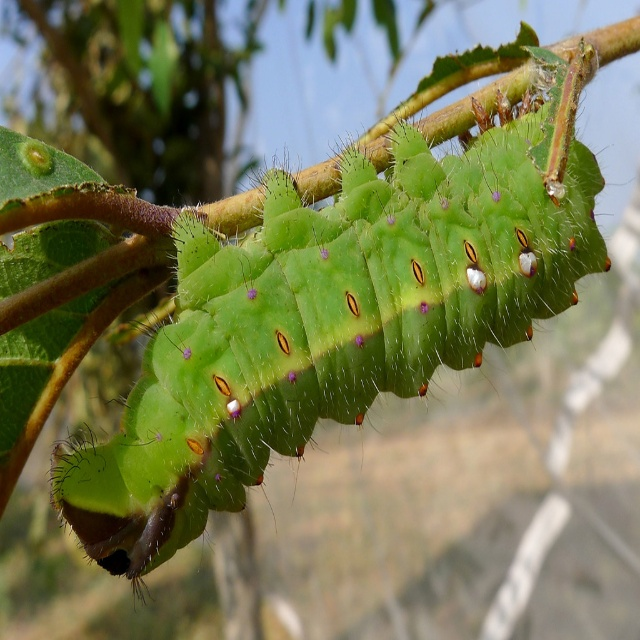Caterpillar: (44, 38, 635, 615)
